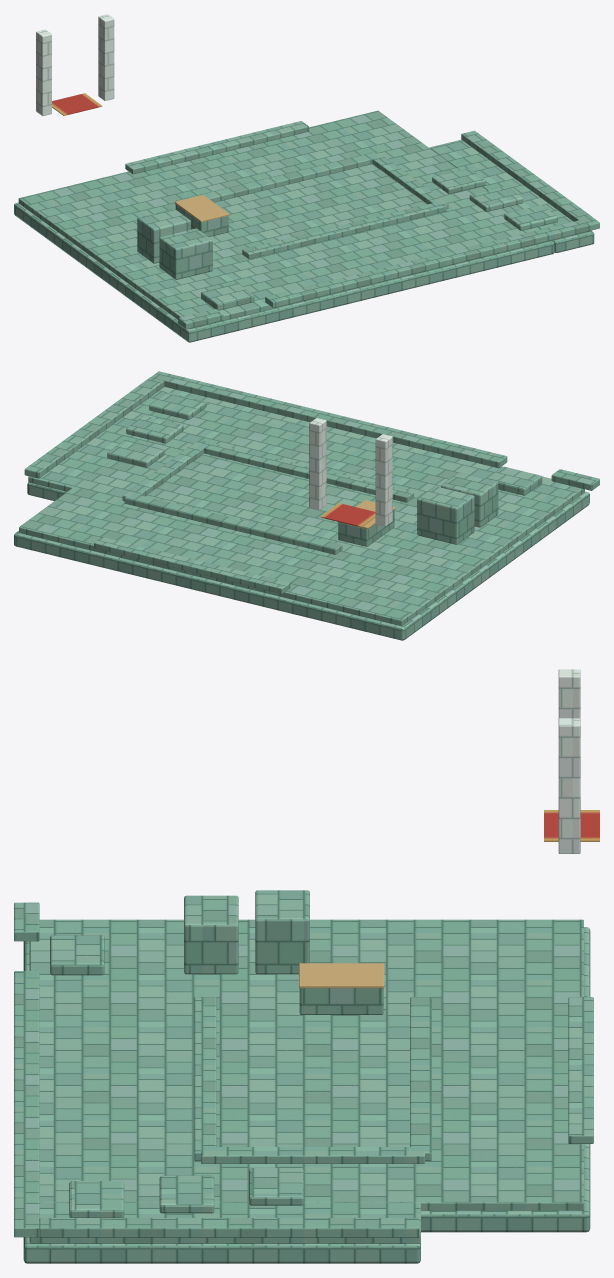
File: act1_courtyard_base.glb
3 views of the same model, one above another, from view 1: azimuth 30°, elevation 25°; view 2: azimuth 150°, elevation 25°; view 3: azimuth 270°, elevation 25° (orthographic). The views are drawn at different scales.
Parts seen in each view (by area): view 1: SM_Act1_CourtyardBase_Mesh; view 2: SM_Act1_CourtyardBase_Mesh; view 3: SM_Act1_CourtyardBase_Mesh.
Part boxes in pixels (bbox=[...]): SM_Act1_CourtyardBase_Mesh: bbox=[14, 14, 599, 342]; SM_Act1_CourtyardBase_Mesh: bbox=[14, 371, 599, 640]; SM_Act1_CourtyardBase_Mesh: bbox=[14, 669, 599, 1263].
Bounding box in the file's own units: 12.67 × 5.29 × 9.62.
Materials: 4 (3 with a texture image).
